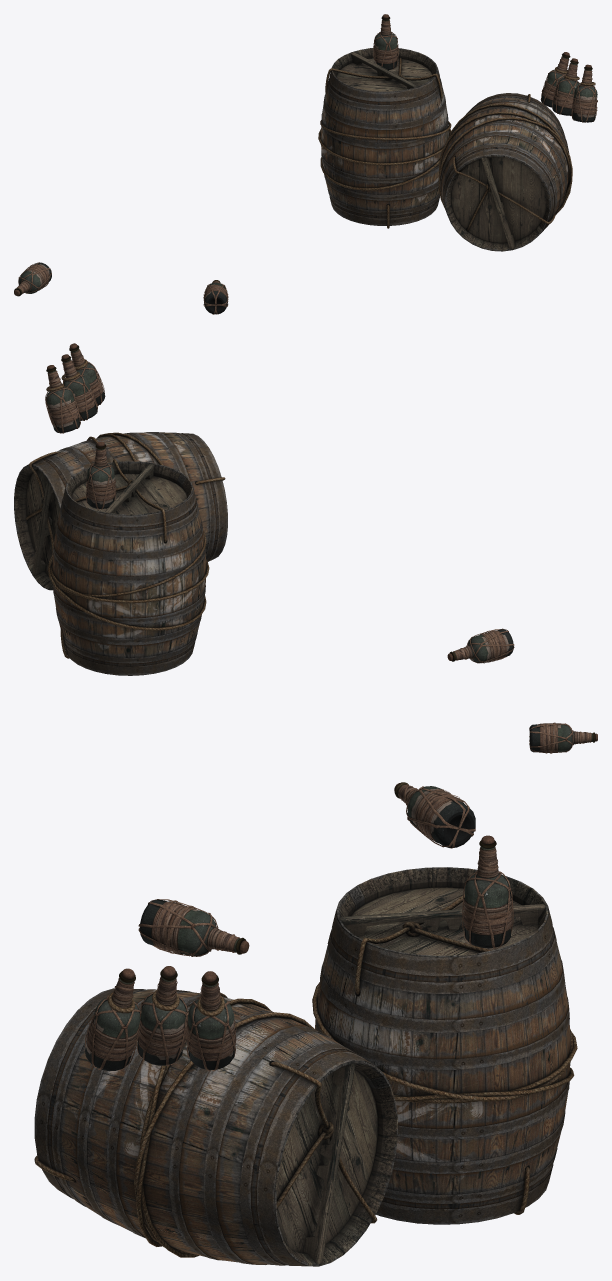
File: barrels.obj
3 renders of one model, top to bottom at view 1: azimuth 30°, elevation 25°; view 2: azimuth 150°, elevation 25°; view 3: azimuth 270°, elevation 25°, orthographic. The views are drawn at different scales.
Visible parts, largest first — view 1: Prop_Barrel_Mesh.004, Prop_Barrel.001_Mesh.005, Prop_BarrelBottles_Mesh.003, Prop_Bottle_Circle.001, Prop_Bottle.002_Circle.002, Prop_Bottle.001_Circle.000; view 2: Prop_Barrel_Mesh.004, Prop_Barrel.001_Mesh.005, Prop_BarrelBottles_Mesh.003, Prop_Bottle.002_Circle.002, Prop_Bottle.001_Circle.000, Prop_Bottle_Circle.001; view 3: Prop_Barrel.001_Mesh.005, Prop_Barrel_Mesh.004, Prop_BarrelBottles_Mesh.003, Prop_Bottle_Circle.001, Prop_Bottle.001_Circle.000, Prop_Bottle.002_Circle.002.
Boxes of the visible parts, bbox=[...] form: Prop_Barrel_Mesh.004: bbox=[318, 48, 451, 228]; Prop_Barrel.001_Mesh.005: bbox=[438, 93, 572, 251]; Prop_BarrelBottles_Mesh.003: bbox=[540, 52, 597, 122]; Prop_Bottle_Circle.001: bbox=[373, 14, 398, 70]; Prop_Bottle.002_Circle.002: bbox=[14, 262, 51, 296]; Prop_Bottle.001_Circle.000: bbox=[203, 280, 228, 314]; Prop_Barrel_Mesh.004: bbox=[48, 459, 209, 675]; Prop_Barrel.001_Mesh.005: bbox=[14, 432, 227, 590]; Prop_BarrelBottles_Mesh.003: bbox=[45, 343, 105, 433]; Prop_Bottle.002_Circle.002: bbox=[529, 722, 597, 753]; Prop_Bottle.001_Circle.000: bbox=[447, 628, 514, 663]; Prop_Bottle_Circle.001: bbox=[86, 441, 116, 509]; Prop_Barrel.001_Mesh.005: bbox=[34, 988, 397, 1266]; Prop_Barrel_Mesh.004: bbox=[312, 867, 577, 1224]; Prop_BarrelBottles_Mesh.003: bbox=[85, 966, 236, 1071]; Prop_Bottle_Circle.001: bbox=[462, 835, 513, 948]; Prop_Bottle.001_Circle.000: bbox=[138, 899, 249, 956]; Prop_Bottle.002_Circle.002: bbox=[394, 782, 475, 848].
Bounding box in the file's own units: 25.74 × 8.54 × 11.67.
Materials: 2 (2 with a texture image).
